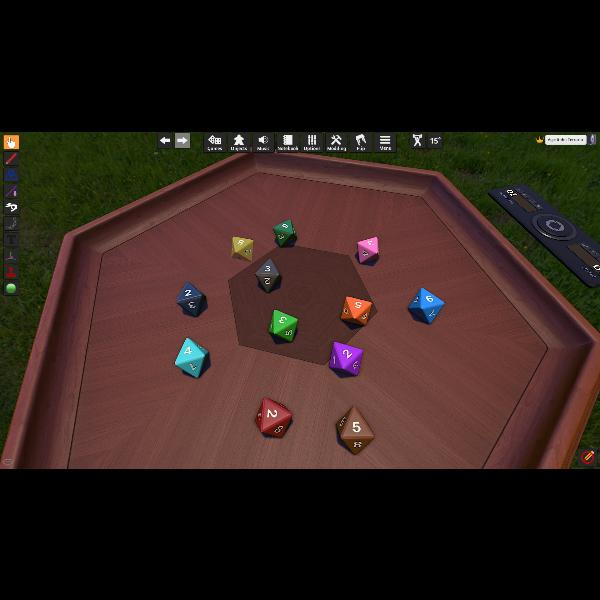d8: (336, 406, 374, 455), (255, 396, 294, 436), (175, 336, 209, 378), (408, 288, 444, 325), (331, 342, 363, 374), (176, 282, 206, 316), (268, 308, 298, 341), (342, 296, 372, 326), (255, 258, 281, 292), (274, 219, 296, 247), (358, 236, 378, 264), (232, 235, 254, 260)
